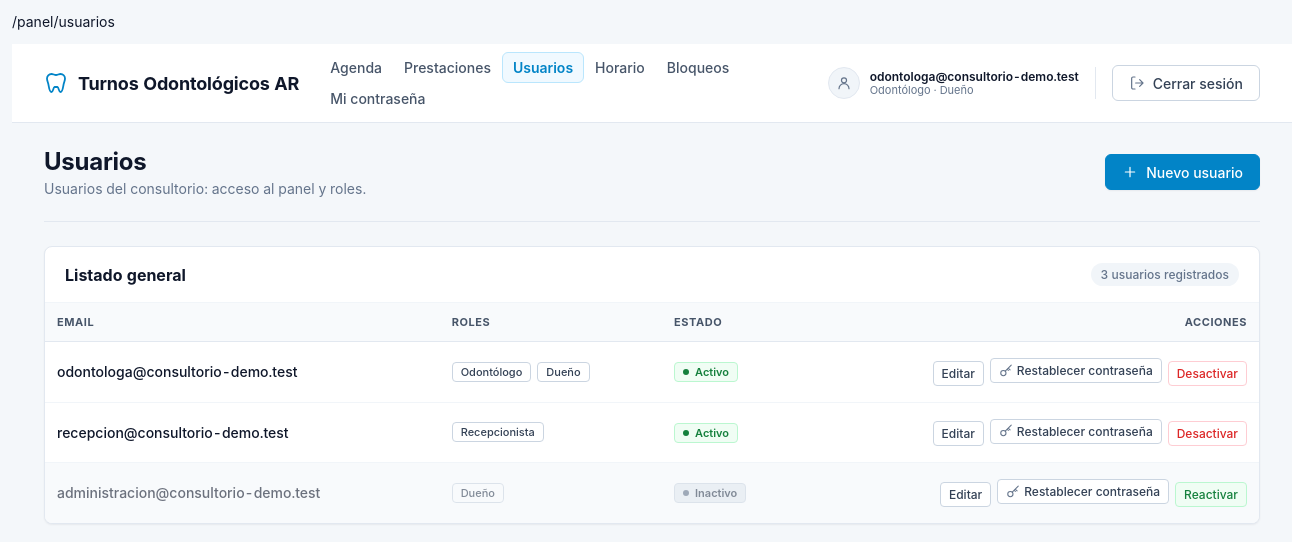
Test case: PaginaUsuarios: edición de roles y desactivación › US-093 CA-3: desactivar a la recepcionista
Check: the table is shown, box [45,303,1259,522]
Step 1. Click the button "Desactivar" in the row of "recepcion@consultorio-demo.test" → (1207, 434), box [1168,421,1247,446]
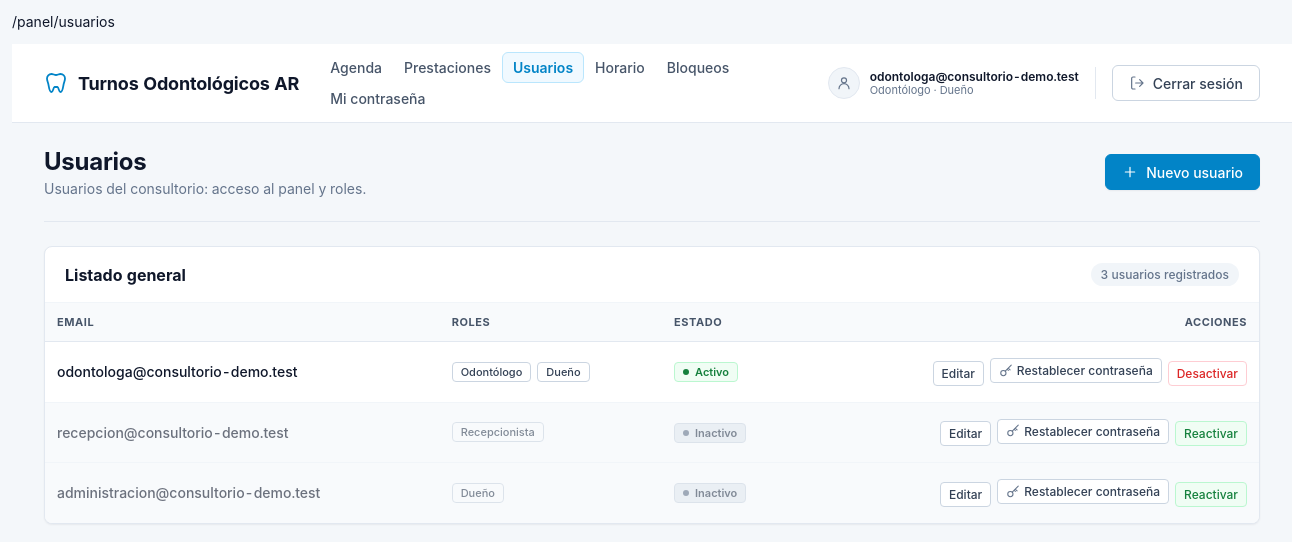
Check: the text "3 usuarios registrados" is shown, box [1091,263,1239,286]
Check: the text "Inactivo" in the row of "recepcion@consultorio-demo.test" is shown, box [695,426,737,440]
